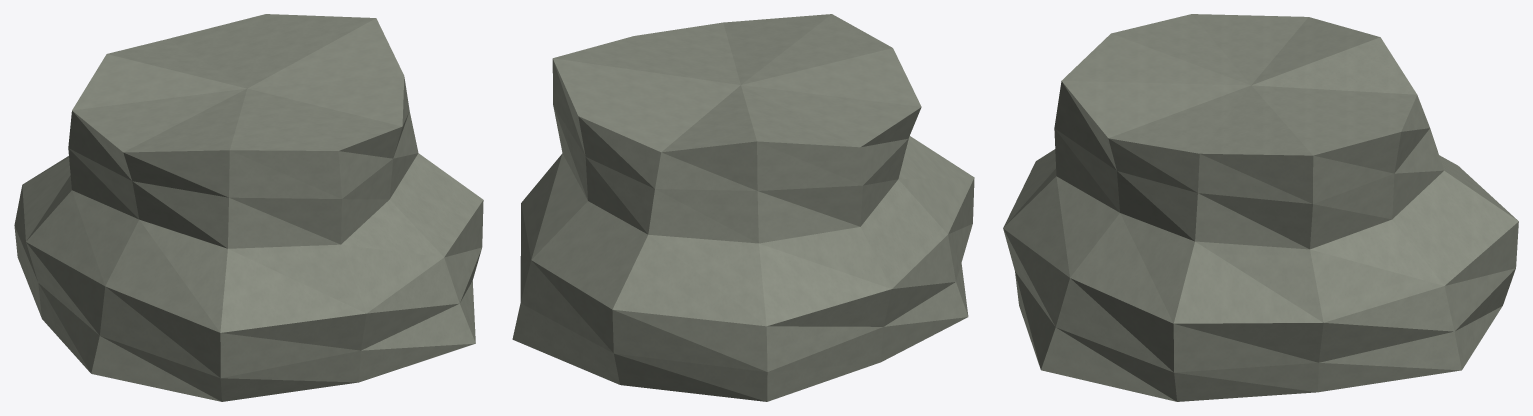
3 views of the same model, side by side, from view 1: azimuth 30°, elevation 25°; view 2: azimuth 150°, elevation 25°; view 3: azimuth 270°, elevation 25° (orthographic). The views are drawn at different scales.
Visible parts, largest first — view 1: 破岩形状与干湿色尺寸族; view 2: 破岩形状与干湿色尺寸族; view 3: 破岩形状与干湿色尺寸族.
Boxes of the visible parts, x1=… form: 破岩形状与干湿色尺寸族: x1=14, y1=14, x2=483, y2=401; 破岩形状与干湿色尺寸族: x1=512, y1=14, x2=974, y2=401; 破岩形状与干湿色尺寸族: x1=1003, y1=14, x2=1518, y2=401.
Bounding box in the file's own units: 6.75 × 3.86 × 7.42.
2 materials, 2 textured.
